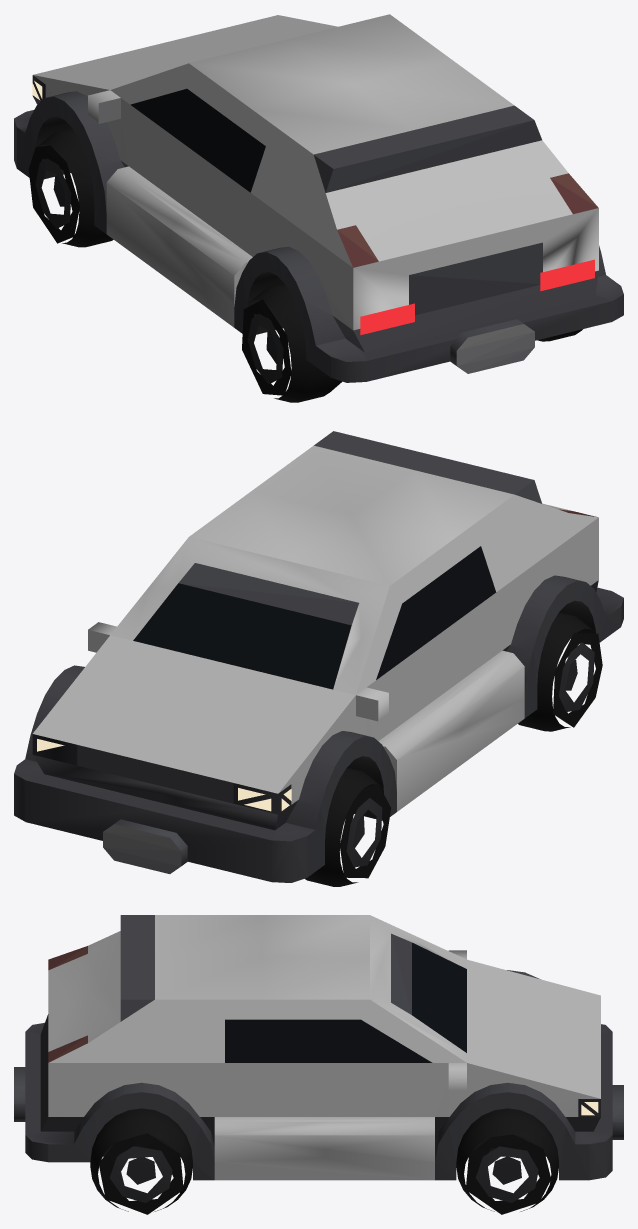
Rendered from ov_hatch.glb.
3 views of the same model, one above another, from view 1: azimuth 30°, elevation 25°; view 2: azimuth 150°, elevation 25°; view 3: azimuth 270°, elevation 25° (orthographic). The views are drawn at different scales.
Visible parts, largest first — view 1: Body, WheelRL, WheelFL; view 2: Body, WheelFL, WheelRL; view 3: Body, WheelFR, WheelRR.
Part boxes in pixels (left/top/right/bottom): Body: left=14, top=14, right=623, bottom=382; WheelRL: left=242, top=283, right=342, bottom=402; WheelFL: left=28, top=128, right=113, bottom=247; Body: left=14, top=431, right=623, bottom=882; WheelFL: left=305, top=767, right=391, bottom=886; WheelRL: left=518, top=612, right=602, bottom=731; Body: left=14, top=915, right=623, bottom=1180; WheelFR: left=456, top=1109, right=558, bottom=1214; WheelRR: left=90, top=1109, right=192, bottom=1214.
Size of what is drawn, in the model's own units: 1.93 by 1.36 by 3.8.
